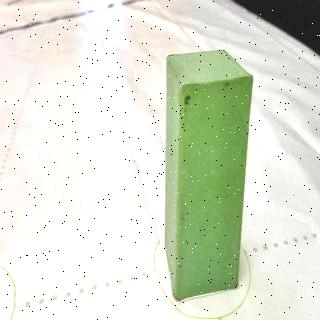greenbox: (163, 48, 254, 302)
